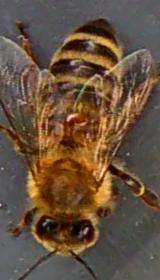varroa_mite: (60, 106, 94, 130)
